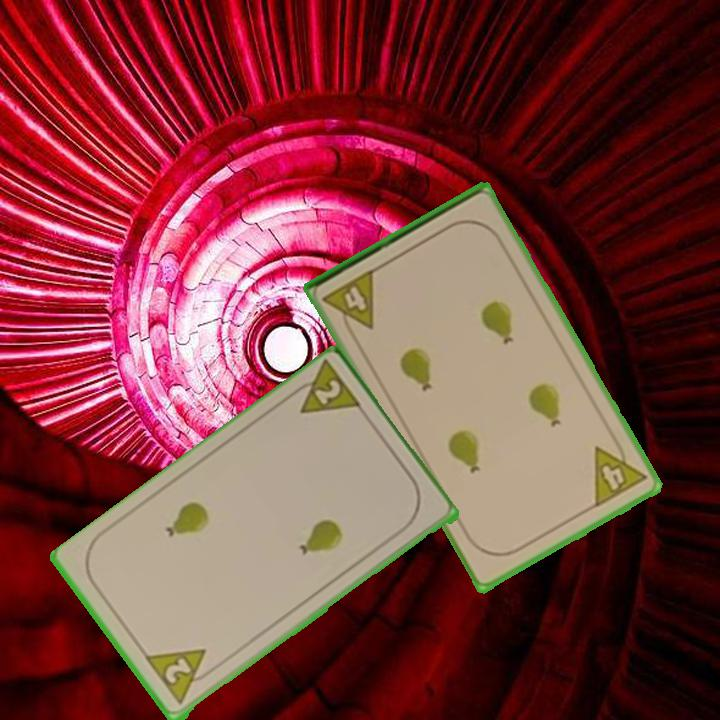2p: (283, 358, 366, 418), (142, 645, 219, 708)
4p: (590, 433, 650, 511), (319, 265, 378, 341)
